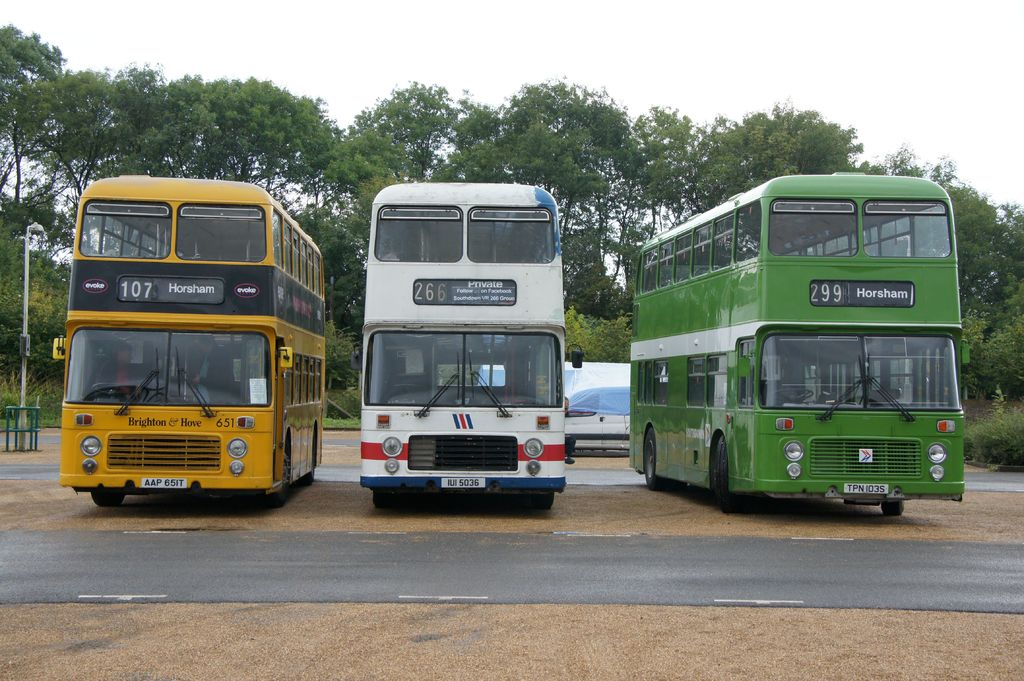Tree: (0, 76, 1023, 413), (0, 26, 67, 197)
